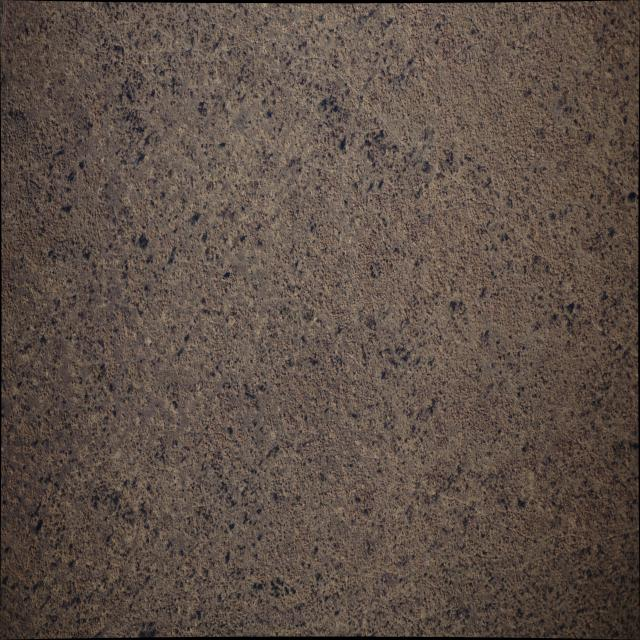elephant: (221, 278, 227, 282), (621, 120, 625, 126)
